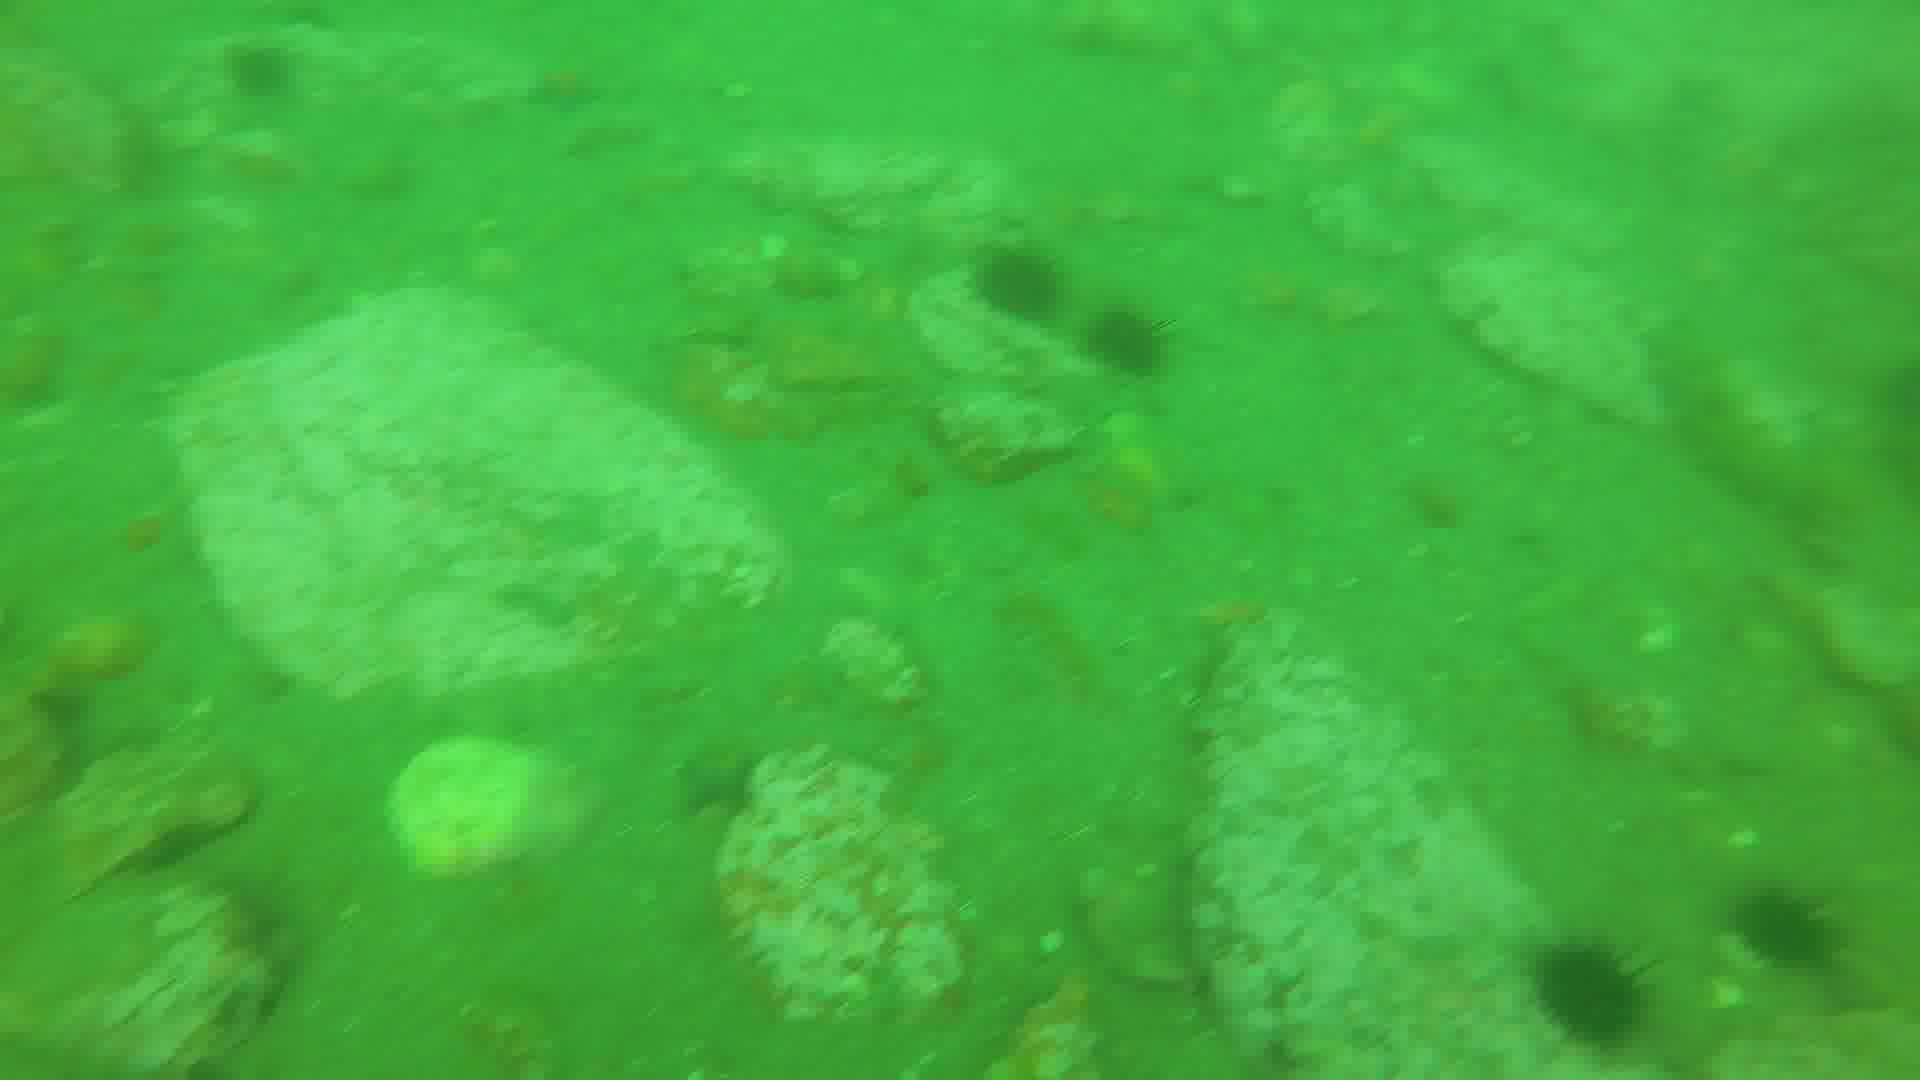echinus: (1538, 936, 1654, 1056), (1735, 882, 1840, 975), (967, 240, 1065, 324), (1083, 301, 1168, 378), (227, 46, 287, 98)
starfish: (676, 742, 754, 823), (524, 65, 615, 117)
